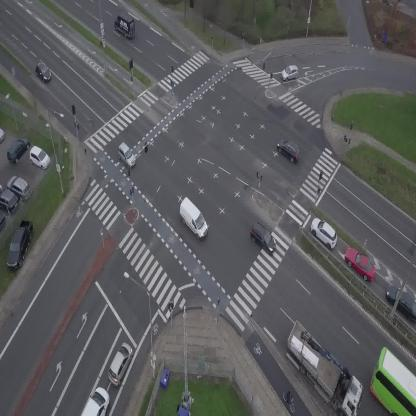bicycle: (282, 390, 297, 414)
bus: (371, 347, 416, 416)
car: (340, 242, 382, 285), (103, 340, 137, 388), (305, 213, 343, 251), (246, 221, 281, 256), (272, 134, 305, 165), (81, 386, 110, 416), (112, 142, 140, 170), (31, 61, 54, 85), (279, 64, 300, 82)
lorry: (274, 315, 375, 416), (171, 196, 215, 240), (110, 10, 142, 41)
